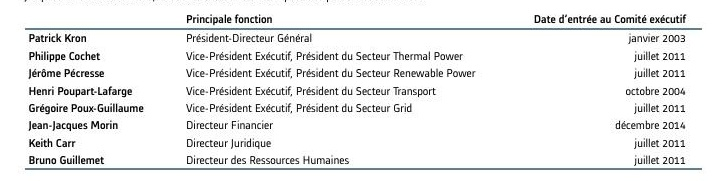table: (0, 0, 728, 181)
